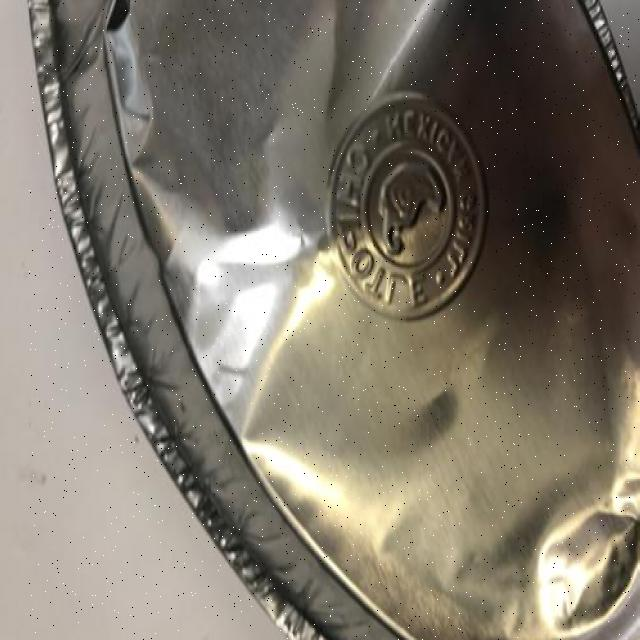metal: (29, 0, 639, 640)
